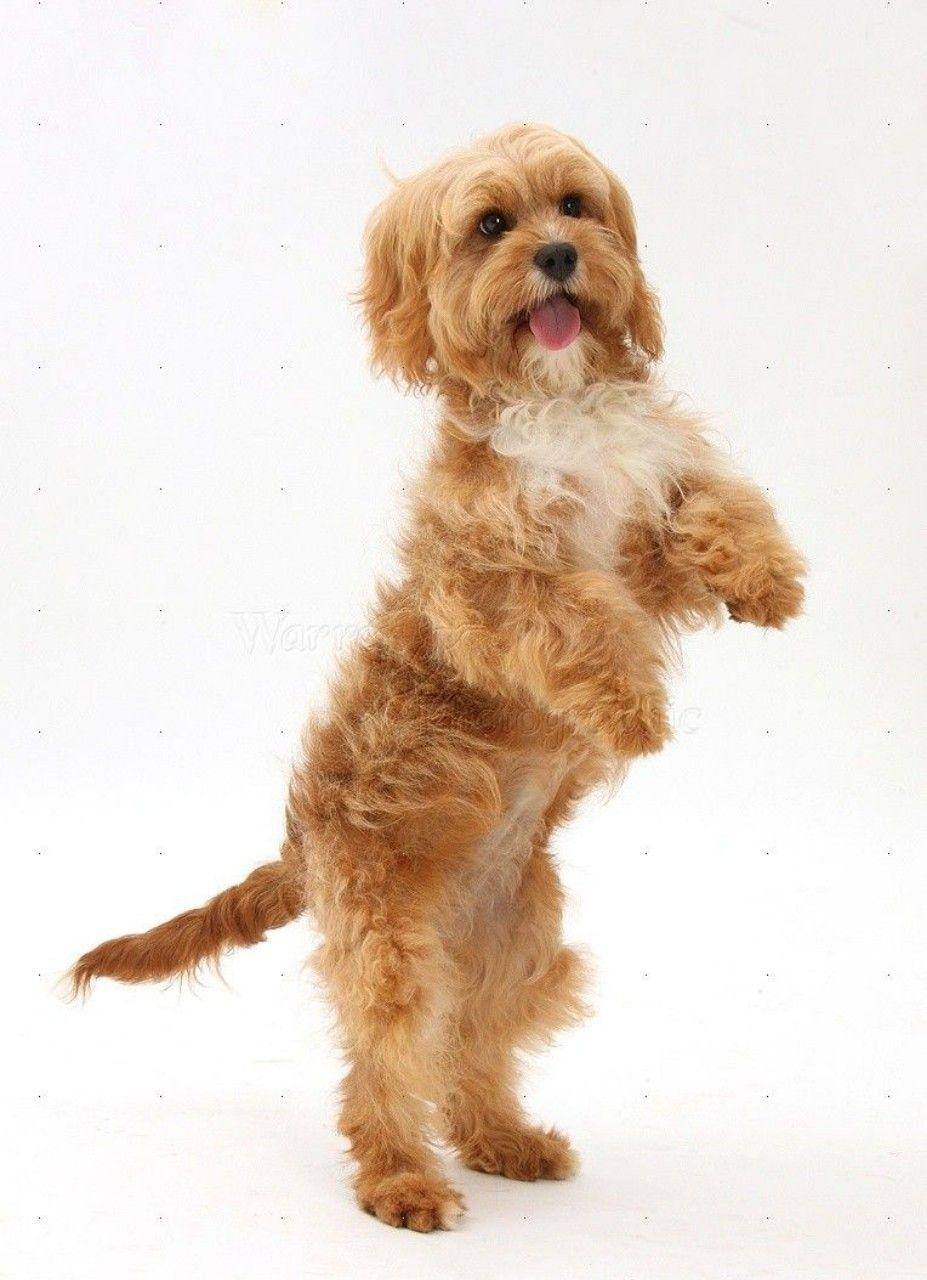adult_dog: (48, 115, 814, 1239)
